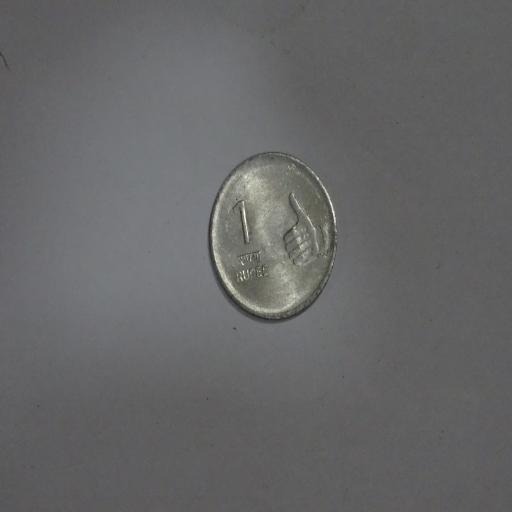rupee1: (208, 153, 339, 322)
